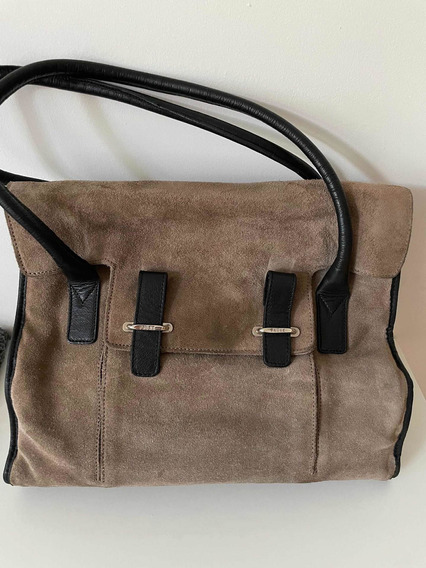cartera: (1, 58, 414, 489)
